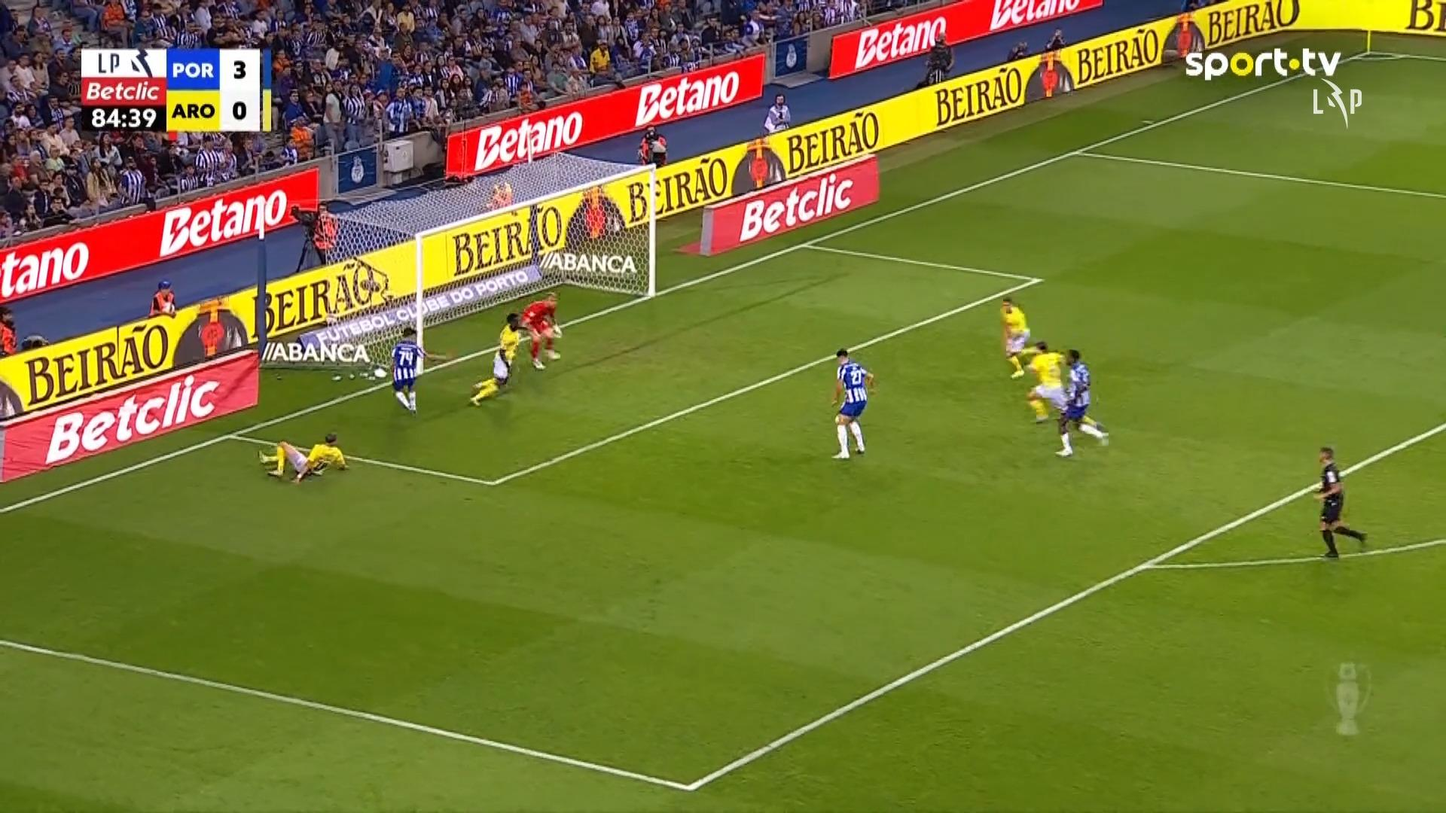ball: (834, 413, 850, 425)
goalkeeper: (518, 291, 563, 370)
player: (1054, 347, 1110, 457), (467, 311, 526, 406), (828, 346, 876, 459), (389, 325, 447, 414), (257, 431, 349, 483), (1021, 340, 1070, 424), (468, 347, 512, 406), (999, 296, 1030, 379)
referee: (1310, 445, 1367, 559)
